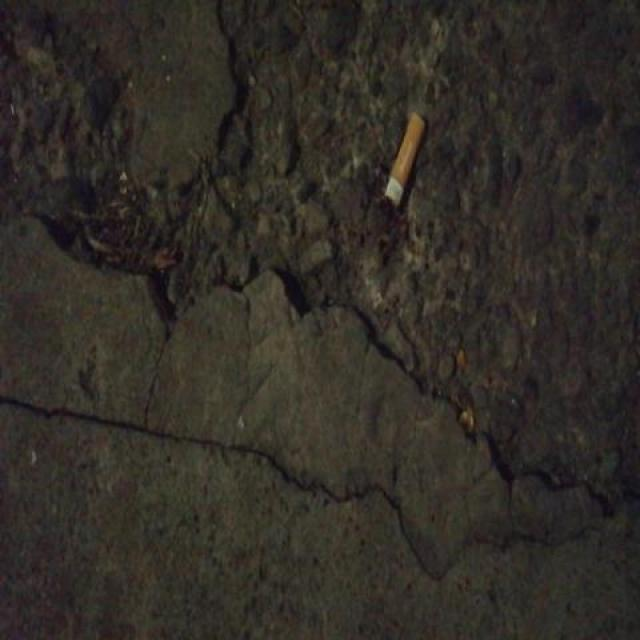non-organic waste: (381, 107, 431, 216)
